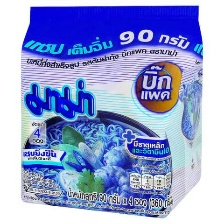snack: (10, 0, 212, 224)
